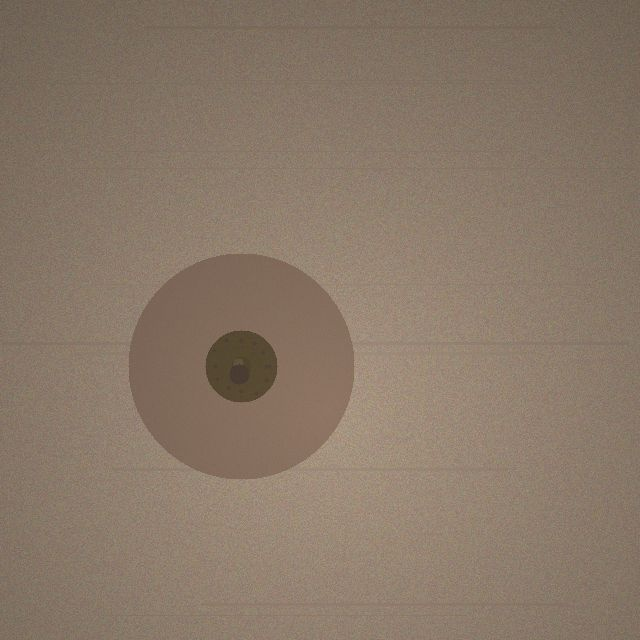cold_weld: (128, 253, 354, 479)
